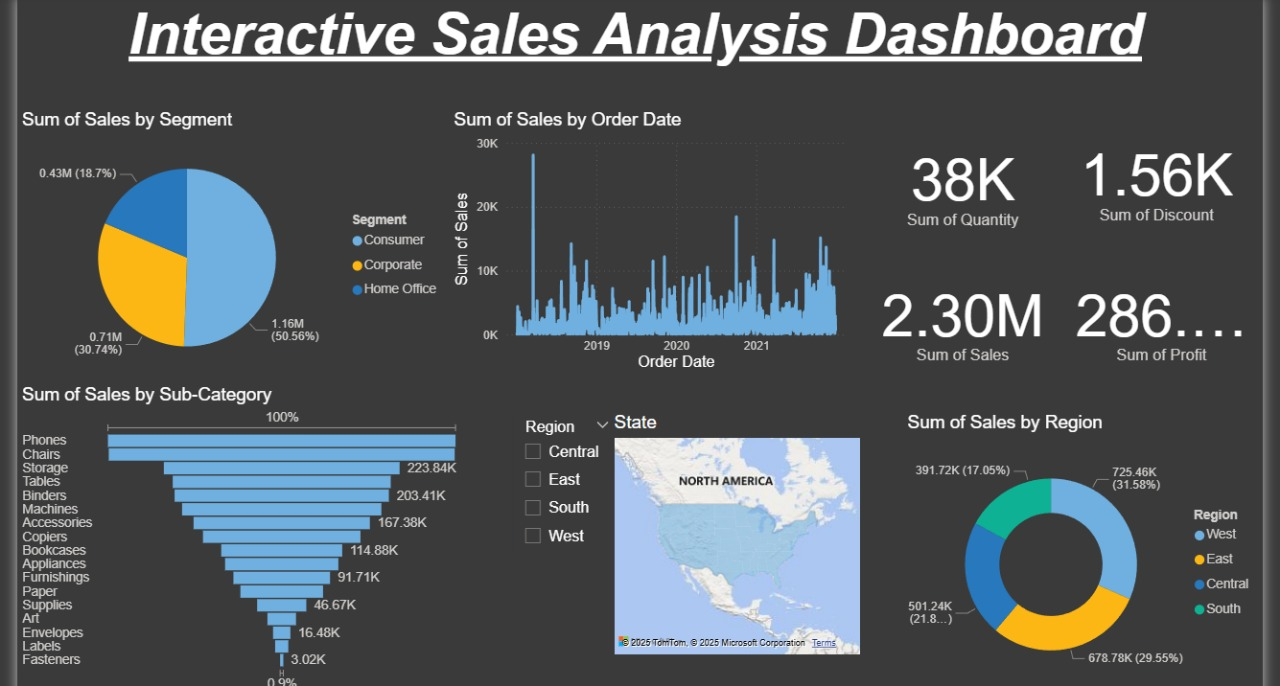

Layout of this report page (visuals, bound fields, positions):
{"tool":"powerbi","page":{"name":"Page 1","canvas":[1280,720],"ordinal":0},"visuals":[{"type":"donutChart","fields":{"Category":["Orders.Region"],"Y":["Sum(Orders.Sales)"]},"box":[910,428.6,370,291.4],"z":0},{"type":"funnel","fields":{"Category":["Orders.Sub-Category"],"Y":["Sum(Orders.Sales)"]},"box":[0,400,460,320],"z":1},{"type":"pieChart","fields":{"Category":["Orders.Segment"],"Y":["Sum(Orders.Sales)"]},"box":[0,115.7,444.3,284.3],"z":3},{"type":"lineChart","fields":{"Category":["Orders.Order Date"],"Y":["Sum(Orders.Sales)"]},"box":[444.3,115.7,415.7,272.9],"z":4},{"type":"card","fields":{"Values":["Sum(Orders.Profit)"]},"box":[1070,275.7,210,112.9],"z":5},{"type":"card","fields":{"Values":["Sum(Orders.Sales)"]},"box":[871.4,275.7,198.6,112.9],"z":6},{"type":"card","fields":{"Values":["Sum(Orders.Quantity)"]},"box":[871.4,141.4,198.6,102.9],"z":7},{"type":"card","fields":{"Values":["Sum(Orders.Discount)"]},"box":[1070,135.7,200,102.9],"z":8},{"type":"textbox","box":[910,0,200,150],"z":9},{"type":"textbox","box":[0,0,1270,115.7],"z":10},{"type":"slicer","fields":{"Values":["Orders.Region"]},"box":[508.6,428.6,111.4,145.7],"z":11},{"type":"filledMap","fields":{"Category":["Orders.State"]},"box":[608.6,428.6,262.9,254.3],"z":12},{"type":"actionButton","box":[0,0,200,50],"z":13}]}

Visuals, with their boxes on the page's 1280x720 design canvas (x1, y1, x2, y2). These are canvas units, not pixel positions in the 1280x686 screenshot, which may show the page scaled, cropped or inside an application window:
donutChart - Orders.Region x Sum(Orders.Sales): bbox(910, 429, 1280, 720)
funnel - Orders.Sub-Category x Sum(Orders.Sales): bbox(0, 400, 460, 720)
pieChart - Orders.Segment x Sum(Orders.Sales): bbox(0, 116, 444, 400)
lineChart - Orders.Order Date x Sum(Orders.Sales): bbox(444, 116, 860, 389)
card - Sum(Orders.Profit): bbox(1070, 276, 1280, 389)
card - Sum(Orders.Sales): bbox(871, 276, 1070, 389)
card - Sum(Orders.Quantity): bbox(871, 141, 1070, 244)
card - Sum(Orders.Discount): bbox(1070, 136, 1270, 239)
textbox: bbox(910, 0, 1110, 150)
textbox: bbox(0, 0, 1270, 116)
slicer - Orders.Region: bbox(509, 429, 620, 574)
filledMap - Orders.State: bbox(609, 429, 872, 683)
actionButton: bbox(0, 0, 200, 50)
